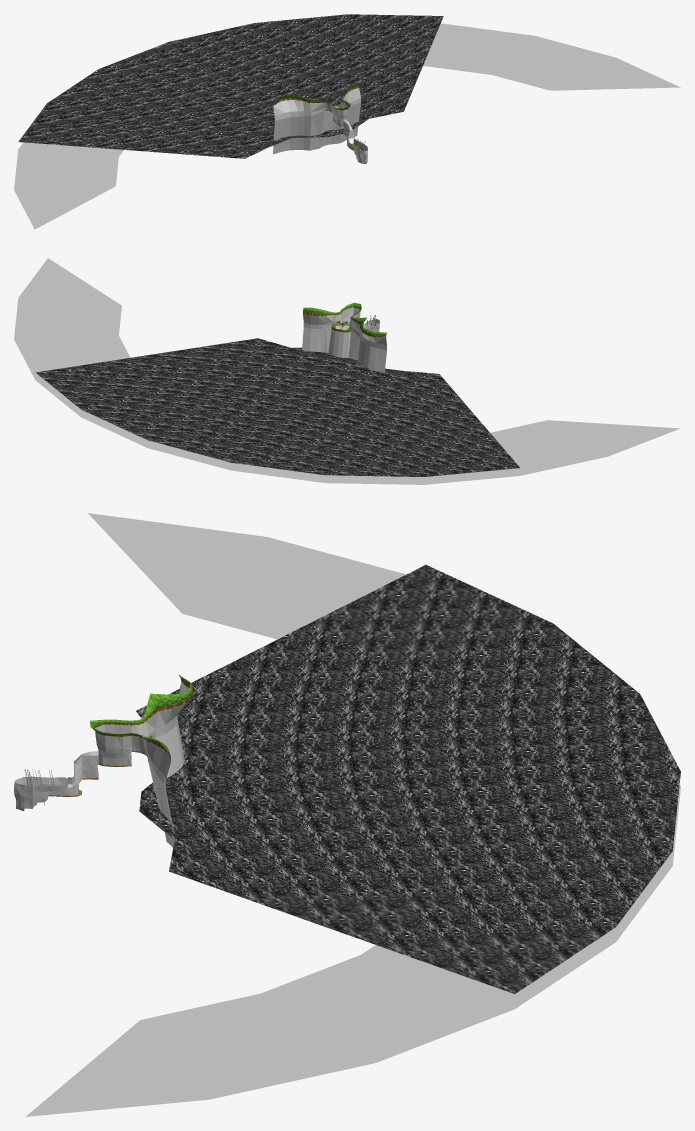
Rendered from Seagate7.obj.
3 renders of one model, top to bottom at view 1: azimuth 30°, elevation 25°; view 2: azimuth 150°, elevation 25°; view 3: azimuth 270°, elevation 25°, orthographic. The views are drawn at different scales.
Visible parts, largest first — view 1: obj3, obj2, obj4; view 2: obj3, obj2, obj4; view 3: obj3, obj2, obj4.
Boxes of the visible parts, box(x1,y1,x2,y2) form: obj3: box(18, 14, 443, 158); obj2: box(14, 23, 680, 229); obj4: box(273, 83, 367, 163); obj3: box(35, 315, 519, 476); obj2: box(14, 258, 680, 484); obj4: box(302, 302, 386, 372); obj3: box(24, 565, 680, 993); obj2: box(25, 513, 680, 1116); obj4: box(14, 674, 193, 847).
Size of the model in its own units: 17291 by 1479 by 8070.
